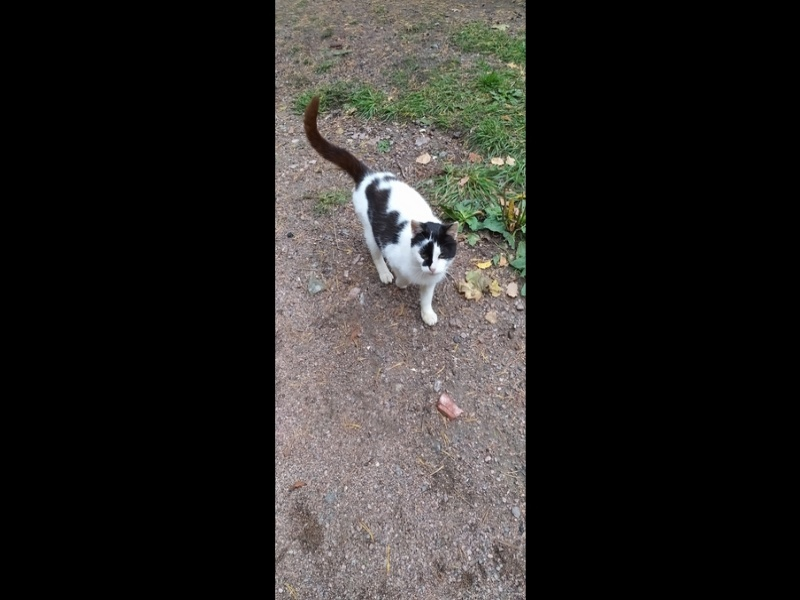cat: (295, 90, 464, 329)
